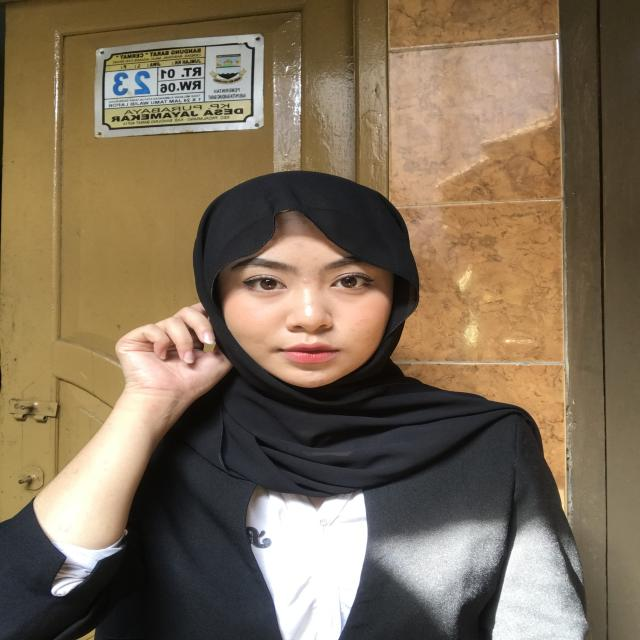ibu: (121, 288, 238, 473)
